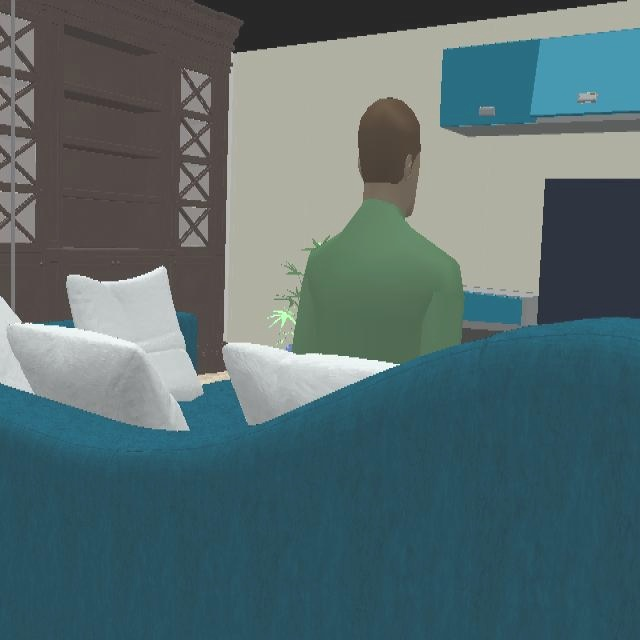cabinet: (439, 27, 640, 139)
monitor: (539, 177, 640, 324)
person: (289, 99, 465, 364)
pillow: (0, 267, 204, 432), (222, 343, 332, 427)
sofa: (0, 319, 640, 640)
